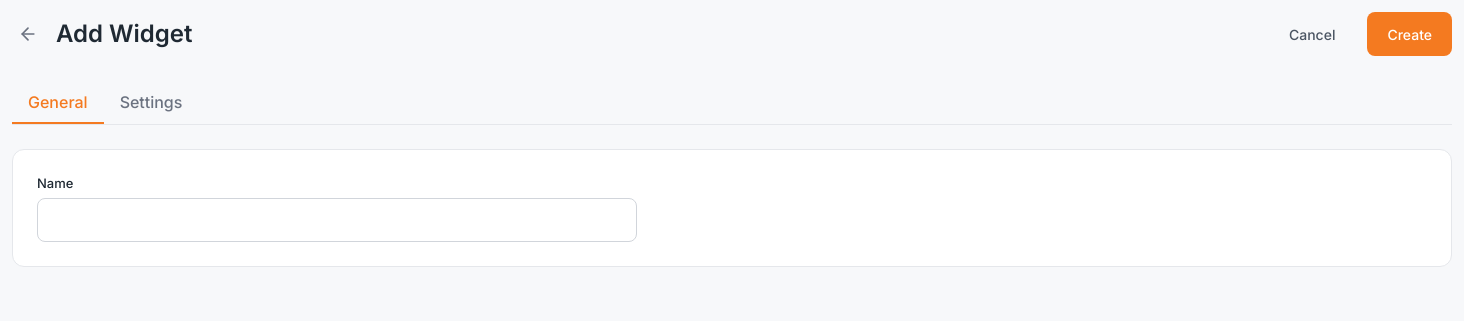
Test: EntityEditPage › tab switching › switches between tabs when clicked
Expected: the tab with test id "widget-tab-general" is shown, top-left (12, 80), bottom-right (104, 124)
// Click Settings tab
Click the tab with test id "widget-tab-settings": (151, 102) top-left (104, 80), bottom-right (198, 124)
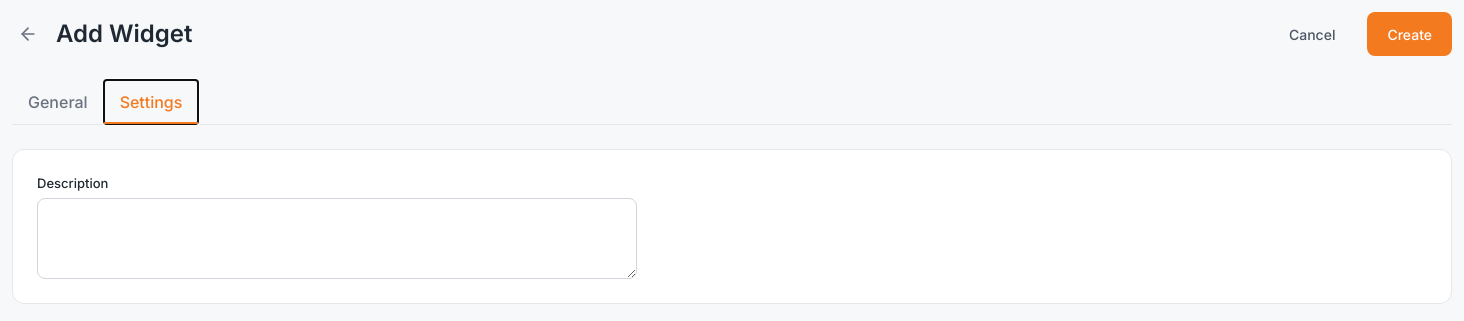
Expected: the text "Description" is shown, top-left (37, 175), bottom-right (108, 191)
